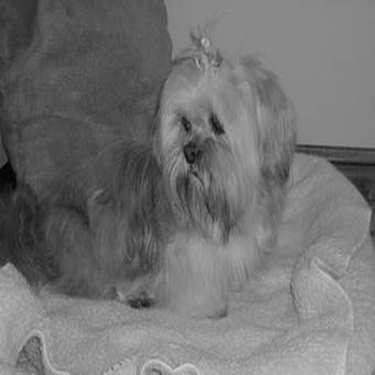dog: (7, 25, 308, 332)
